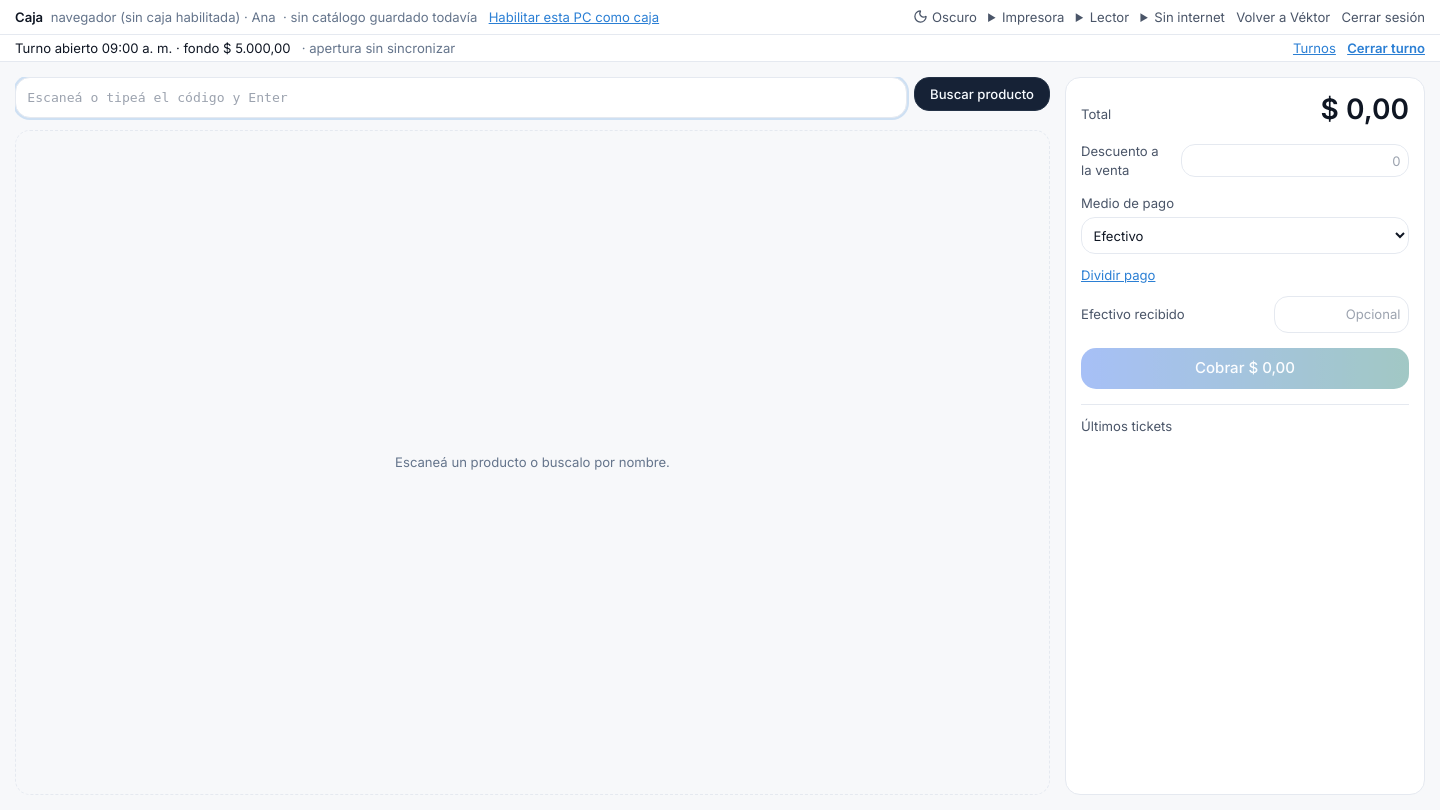
Test: revisión del turno durante la jornada › si la apertura ya está en vuelo, el cierre la comparte en vez de fallar
Check: the element with test id "turno-bar" is shown, box [0,35,1439,62]
Click the button "Cerrar turno" at (1386, 48), box [1347,38,1425,57]
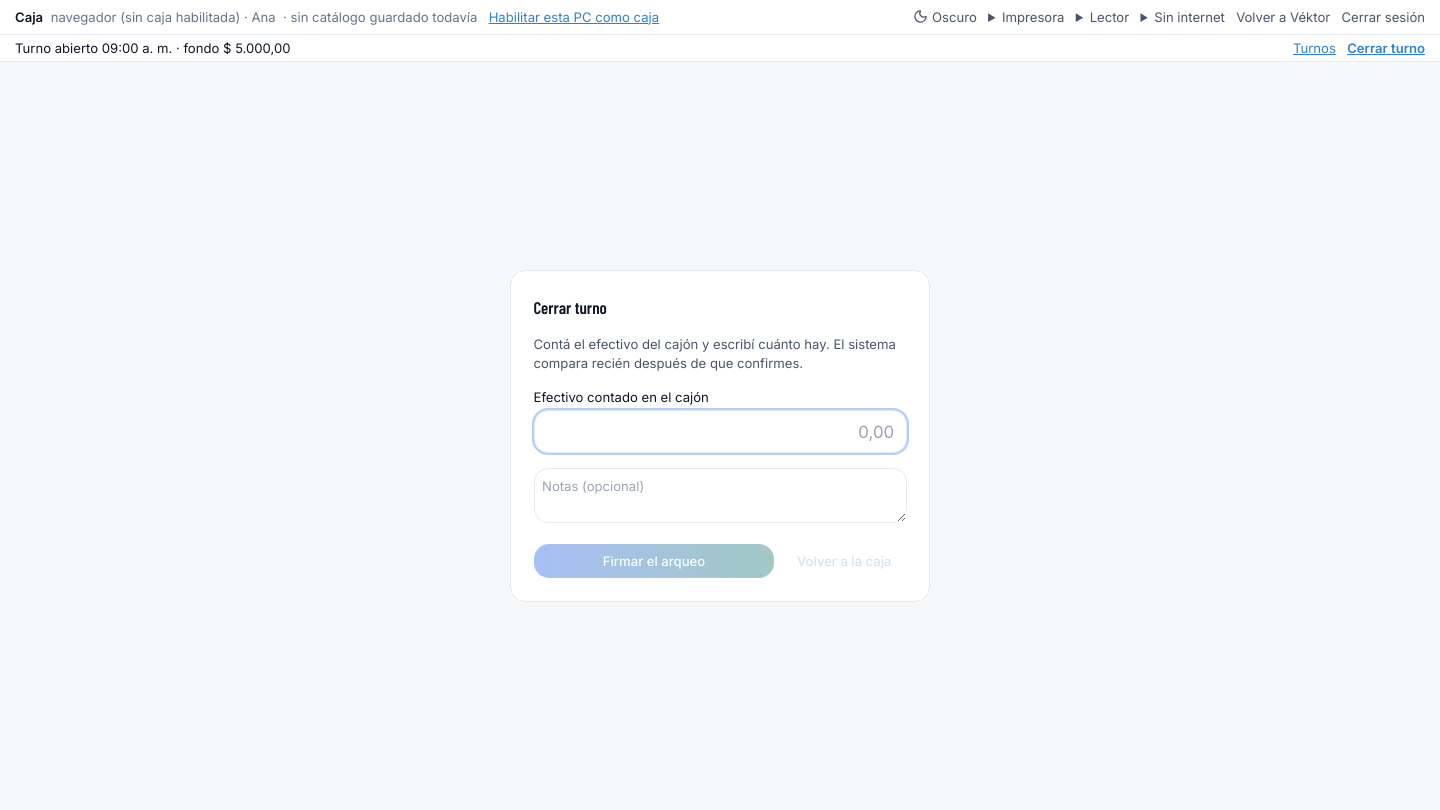
Type "5000" into the field labelled "Efectivo contado" at (720, 432), box [534,410,906,453]
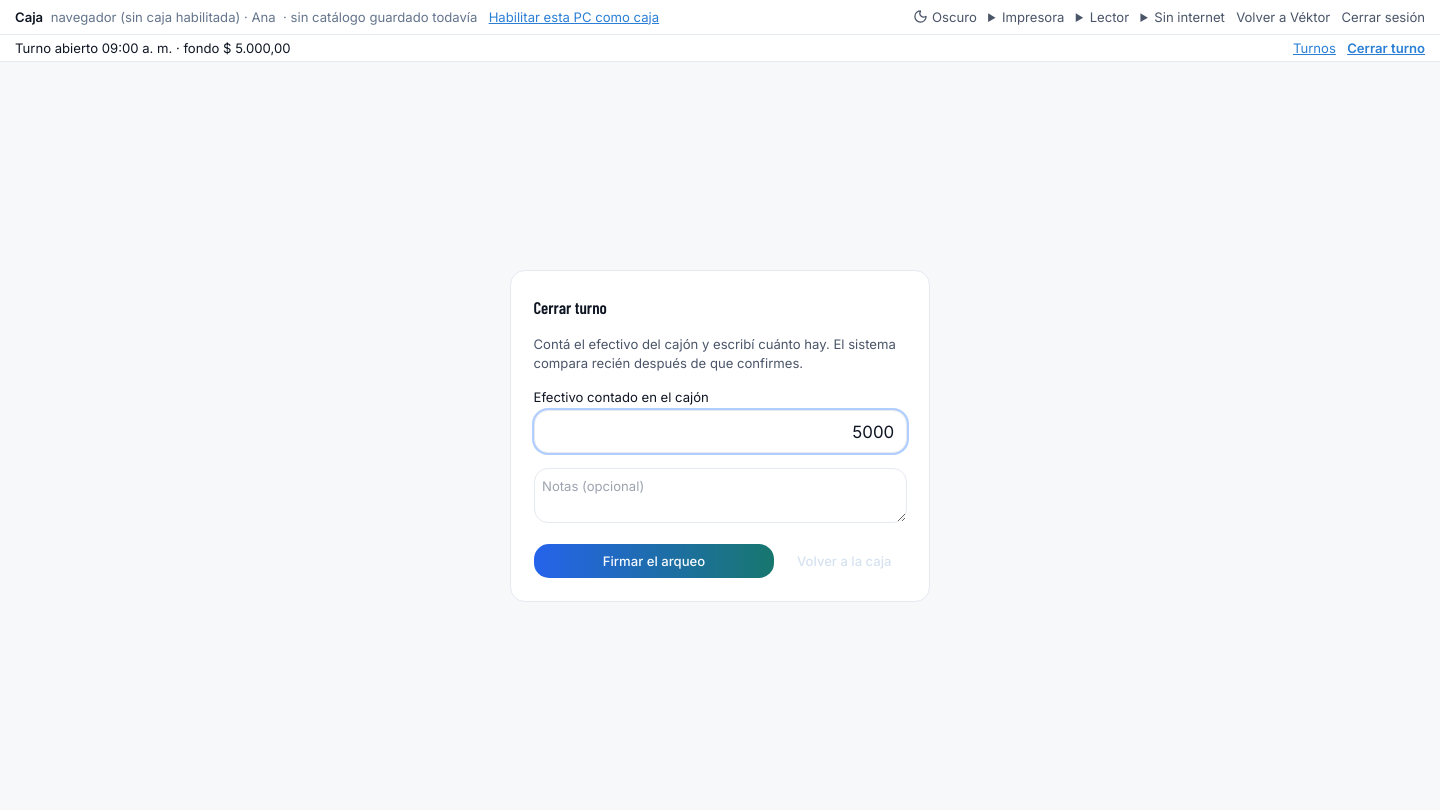
Click the button "Firmar el arqueo" at (654, 561), box [534,544,774,578]
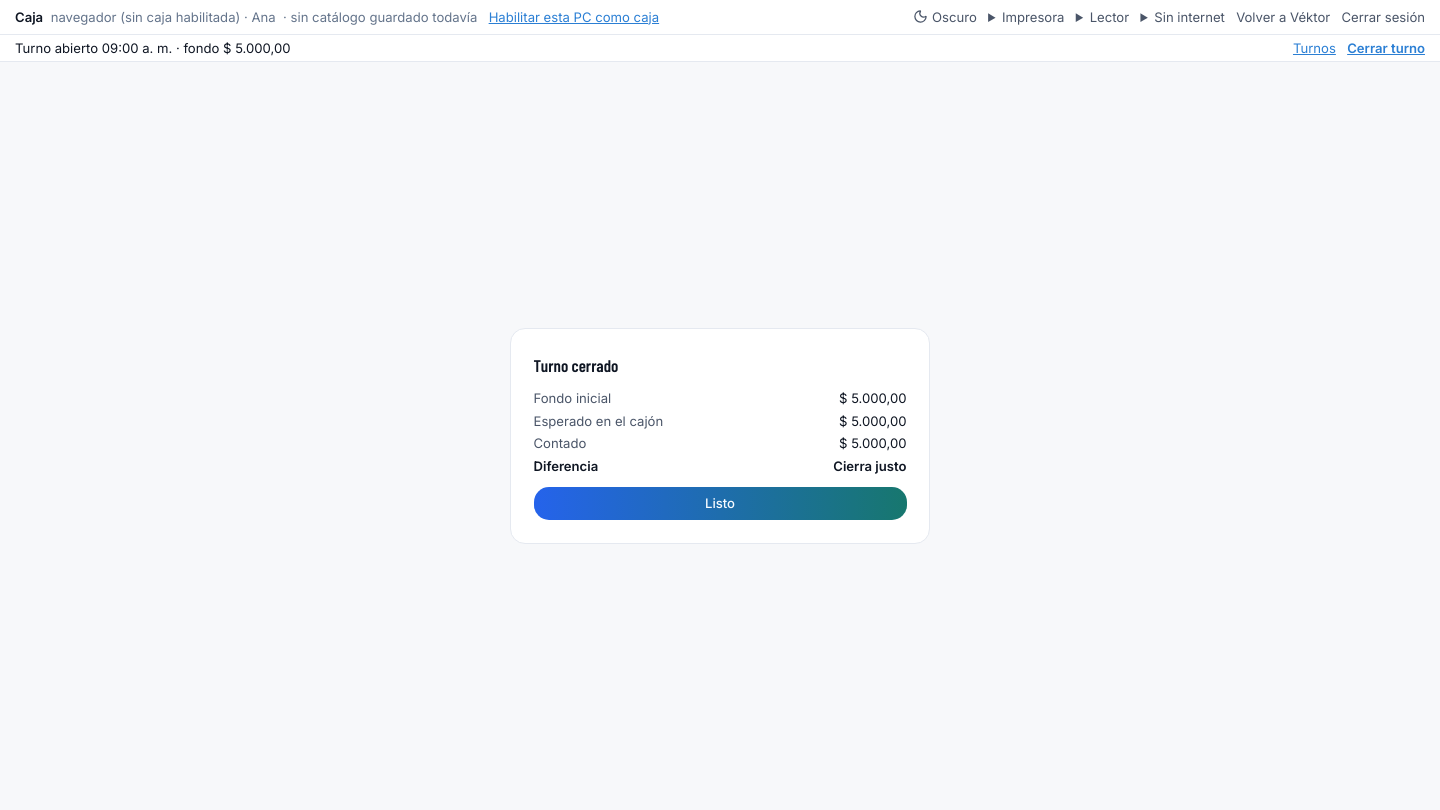
Check: the text with test id "arqueo-diferencia" reads "Cierra justo", box [833,458,906,474]
